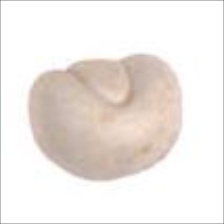L5: (60, 57, 142, 109), (106, 162, 158, 181)
L6: (25, 51, 185, 185)
